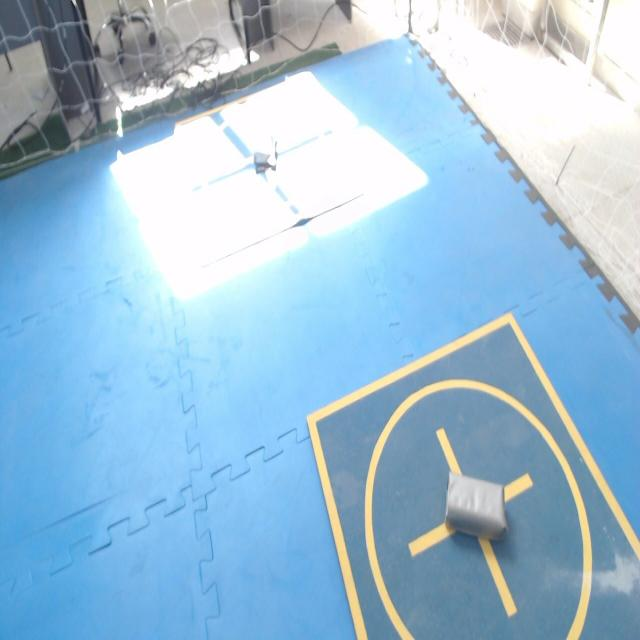esquerda: (446, 472, 507, 539)
vertical: (254, 136, 276, 172)
